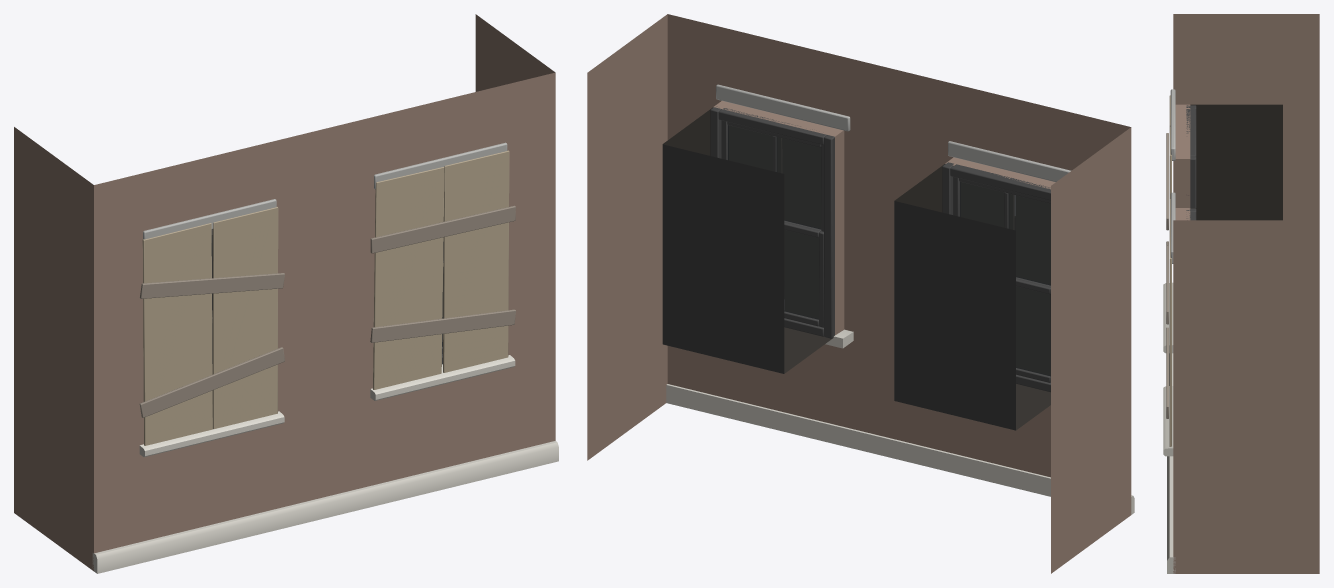
Rendered from upper_4d.glb.
3 renders of one model, left to right at view 1: azimuth 30°, elevation 25°; view 2: azimuth 150°, elevation 25°; view 3: azimuth 270°, elevation 25°, orthographic. The views are drawn at different scales.
Parts seen in each view (by area): view 1: upper_4d; view 2: upper_4d; view 3: upper_4d.
Boxes of the visible parts, x1,y1,x2,y2 form: upper_4d: (14, 14, 558, 573); upper_4d: (587, 14, 1134, 573); upper_4d: (1163, 14, 1319, 573).
Size of the model in its own units: 4 by 3.2 by 1.28.
